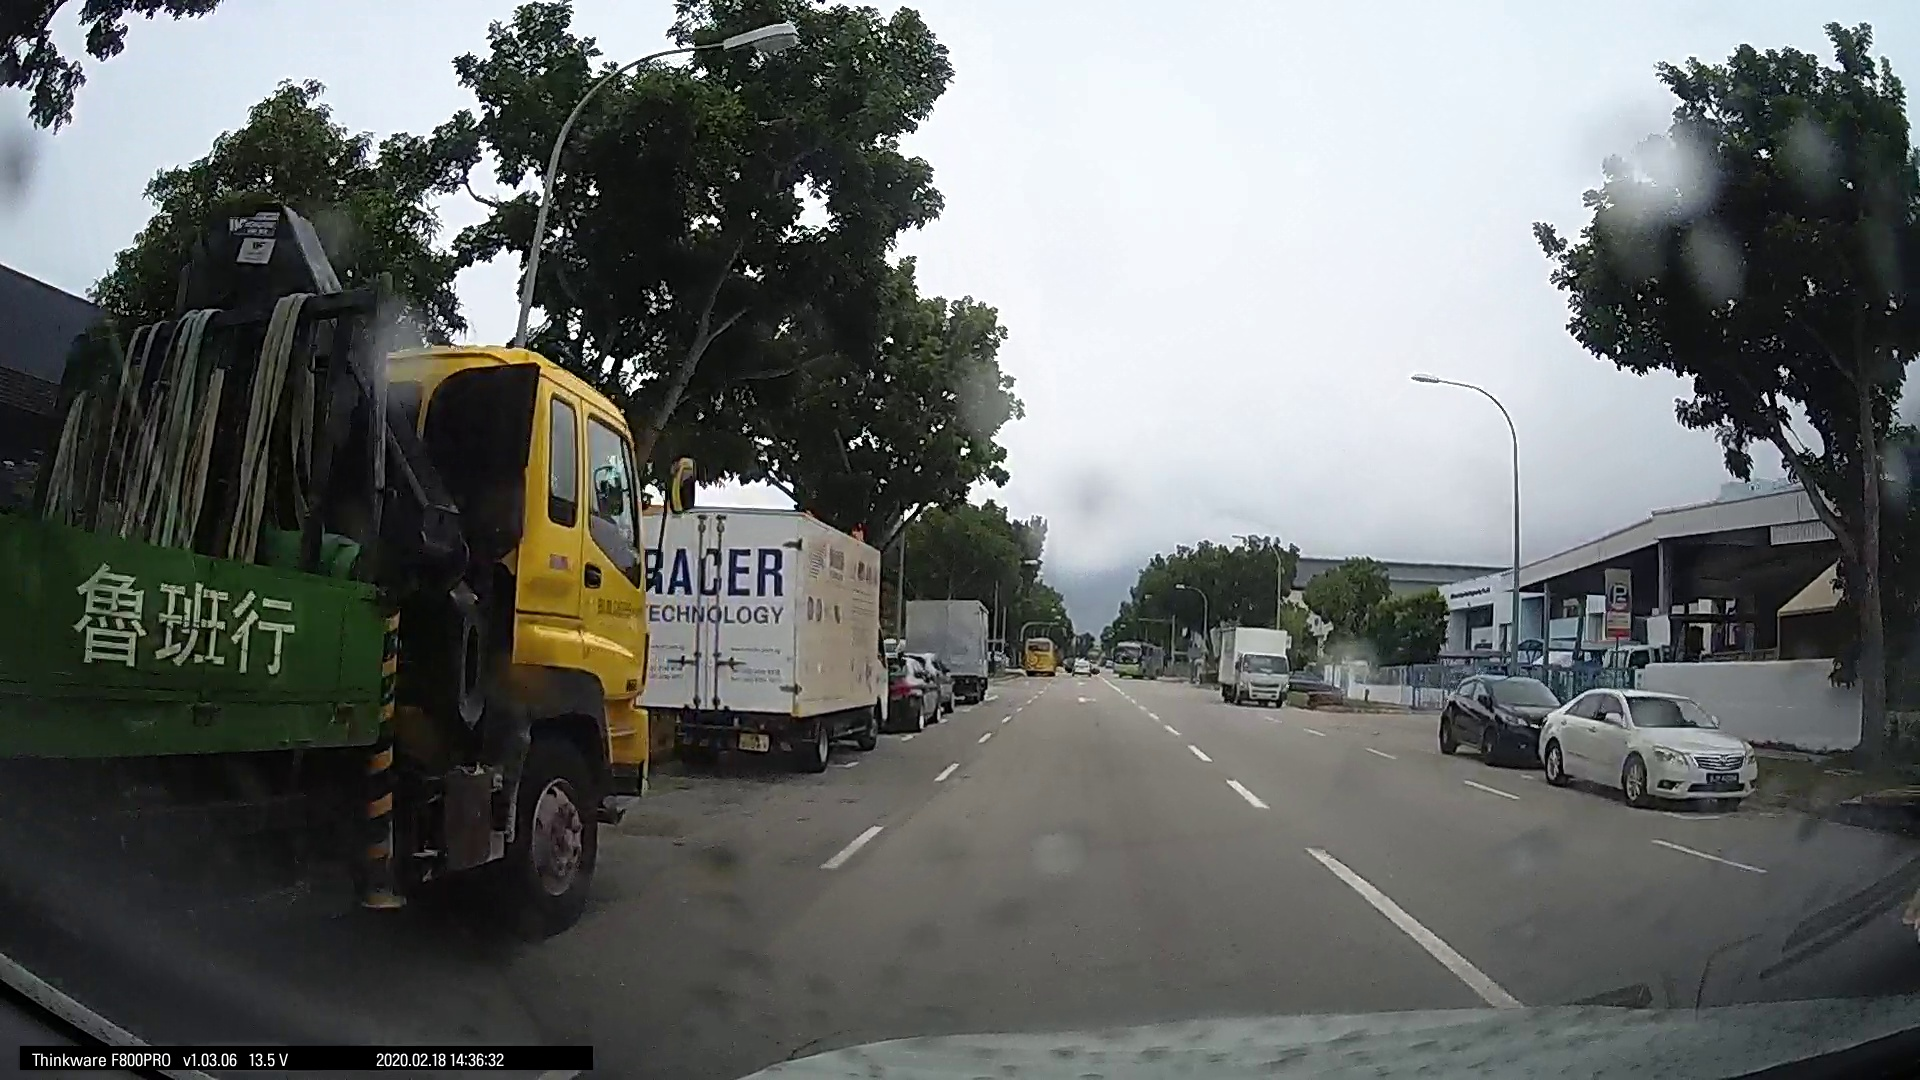Heavy Vehicle: (51, 306, 691, 942), (629, 500, 894, 781), (895, 585, 986, 705), (1215, 626, 1288, 705)
Light Vehicle: (1526, 680, 1758, 810), (1436, 667, 1557, 765), (878, 640, 944, 729)
